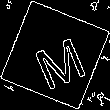M_NW: (24, 23, 86, 87)
